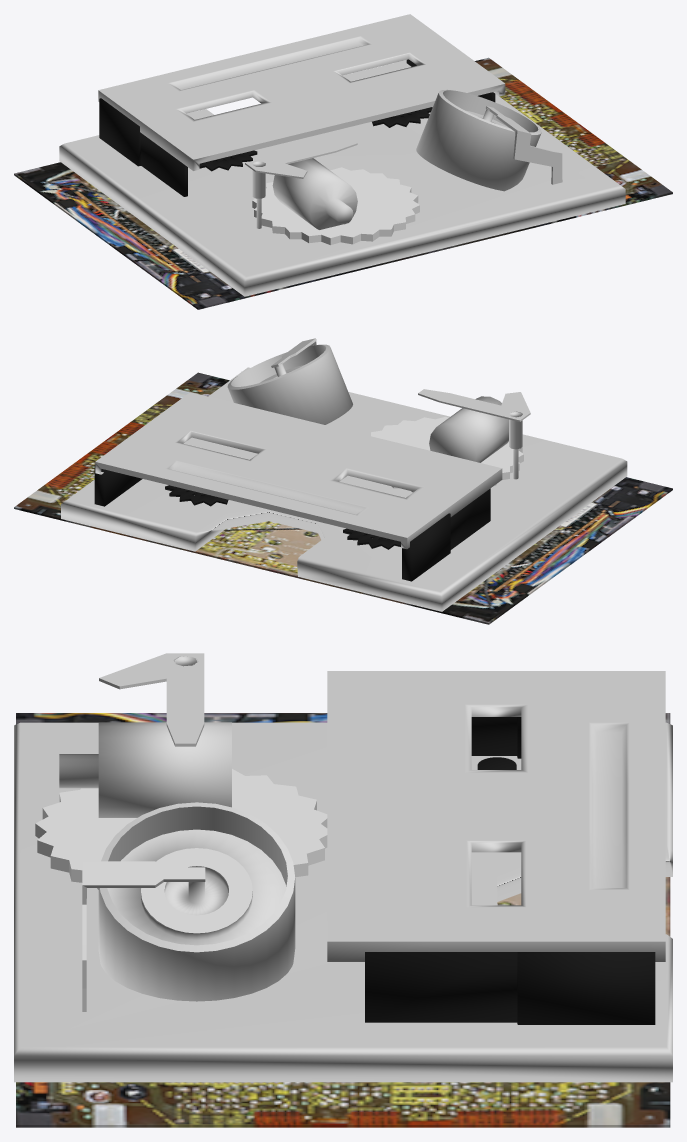
Rendered from vcr.glb.
3 renders of one model, top to bottom at view 1: azimuth 30°, elevation 25°; view 2: azimuth 150°, elevation 25°; view 3: azimuth 270°, elevation 25°, orthographic. The views are drawn at different scales.
Parts seen in each view (by area): view 1: VCR_Mat_Metal, VCR, VCR_Board, VCR_Motor, VCR_Loading_Gear, VCR_Loading_Bay.001, VCR_Gear, VCR_Gear.001; view 2: VCR, VCR_Mat_Metal, VCR_Board, VCR_Motor, VCR_Loading_Bay.001, VCR_Loading_Gear, VCR_Loading_Bay, VCR_Gear, VCR_Gear.001; view 3: VCR, VCR_Mat_Metal, VCR_Board, VCR_Motor, VCR_Loading_Bay, VCR_Loading_Gear, VCR_Loading_Bay.001.
Boxes of the visible parts, left/top/right/bottom form: VCR_Mat_Metal: left=59, top=60, right=625, bottom=296; VCR: left=98, top=14, right=562, bottom=229; VCR_Board: left=14, top=57, right=672, bottom=309; VCR_Motor: left=416, top=89, right=541, bottom=191; VCR_Loading_Gear: left=252, top=167, right=419, bottom=245; VCR_Loading_Bay.001: left=99, top=98, right=187, bottom=196; VCR_Gear: left=372, top=107, right=432, bottom=127; VCR_Gear.001: left=199, top=150, right=257, bottom=171; VCR: left=95, top=338, right=530, bottom=549; VCR_Mat_Metal: left=61, top=367, right=627, bottom=611; VCR_Board: left=14, top=372, right=672, bottom=624; VCR_Motor: left=227, top=344, right=352, bottom=424; VCR_Loading_Bay.001: left=402, top=488, right=490, bottom=581; VCR_Loading_Gear: left=371, top=417, right=523, bottom=492; VCR_Loading_Bay: left=94, top=465, right=142, bottom=506; VCR_Gear: left=165, top=485, right=228, bottom=506; VCR_Gear.001: left=343, top=528, right=400, bottom=549; VCR: left=59, top=653, right=665, bottom=1011; VCR_Mat_Metal: left=14, top=722, right=672, bottom=1082; VCR_Board: left=16, top=713, right=670, bottom=1127; VCR_Motor: left=98, top=802, right=295, bottom=1001; VCR_Loading_Bay: left=365, top=952, right=655, bottom=1024; VCR_Loading_Gear: left=35, top=769, right=327, bottom=889; VCR_Loading_Bay.001: left=471, top=717, right=521, bottom=758.
Bounding box in the file's own units: 0.3075 × 0.0603 × 0.2079.
Materials: 4 (1 with a texture image).
